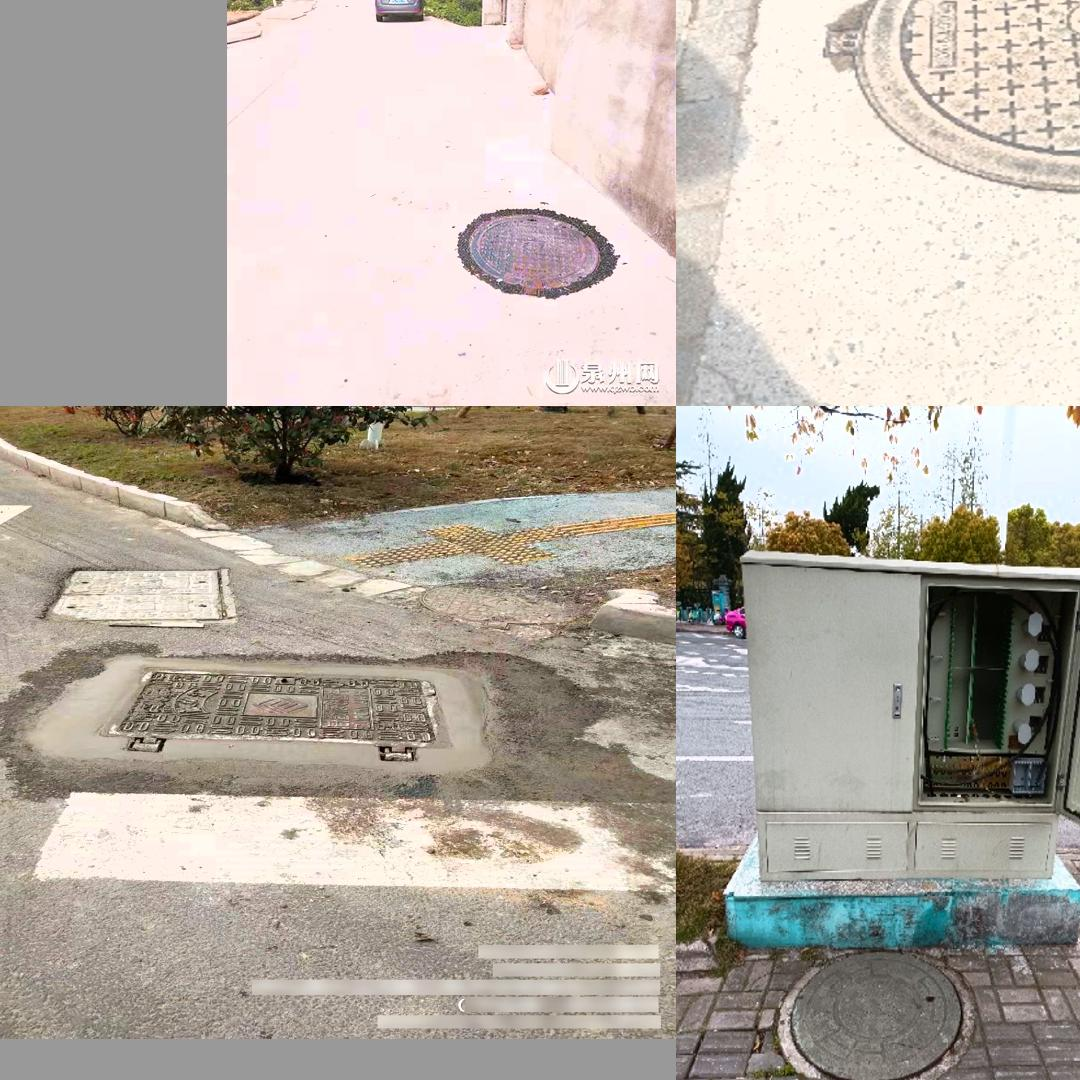good: (850, 0, 1080, 198), (95, 664, 456, 762), (778, 946, 976, 1080), (434, 194, 639, 308), (39, 566, 238, 628)
